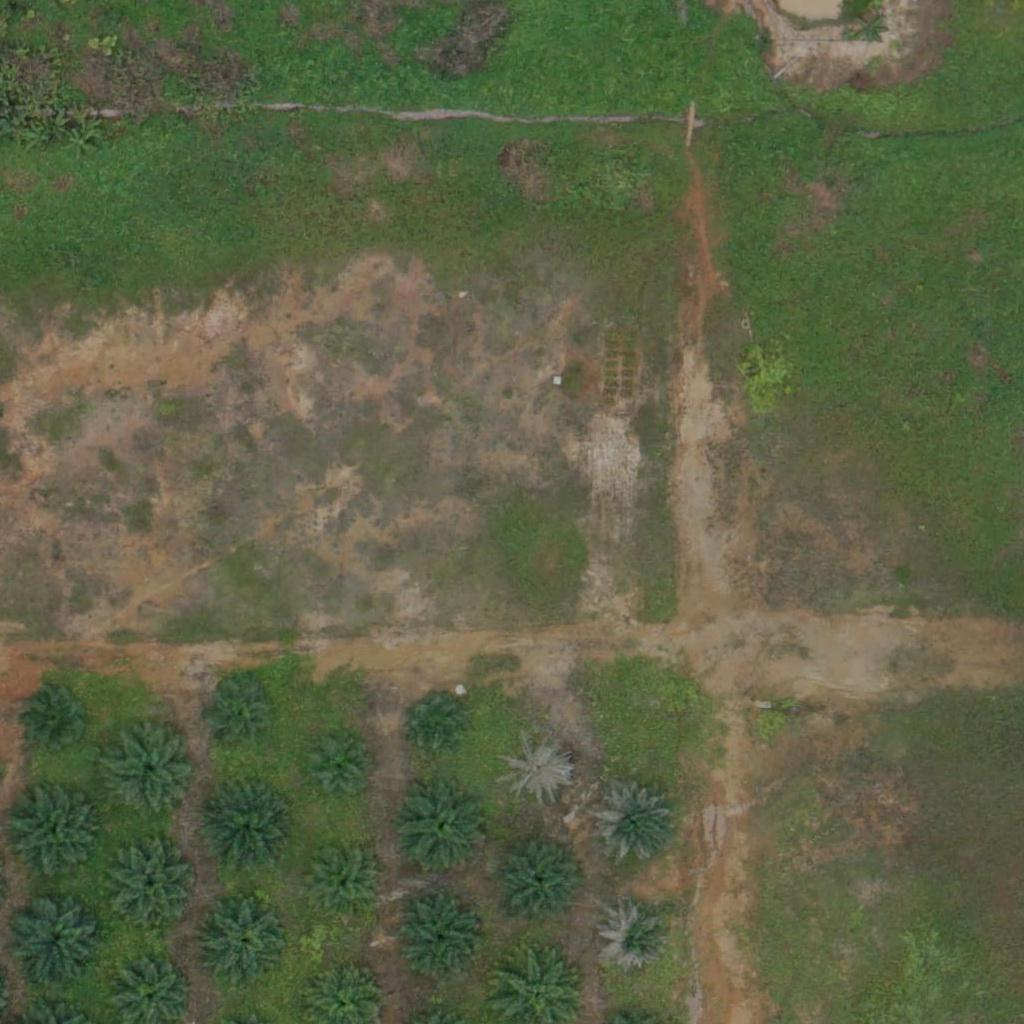Kelapa_Sawit: (4, 782, 104, 883), (7, 890, 107, 991), (101, 720, 201, 821), (393, 778, 493, 878), (492, 832, 592, 932), (109, 844, 197, 933), (203, 787, 291, 875), (200, 900, 288, 988), (588, 780, 676, 868), (398, 895, 485, 983), (499, 731, 574, 807), (600, 901, 675, 977), (305, 850, 380, 925), (210, 683, 273, 746), (307, 730, 370, 793), (27, 685, 90, 748), (403, 691, 465, 753)
